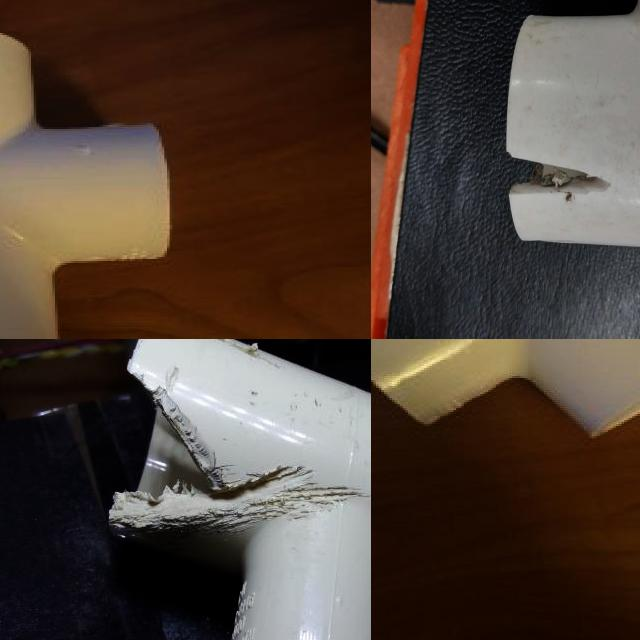Defective: (137, 388, 305, 533), (161, 483, 367, 532), (405, 0, 536, 20), (210, 339, 271, 358)
L Joint: (392, 0, 640, 339)
T Joint: (111, 339, 371, 640), (0, 36, 170, 339), (371, 339, 640, 440)
